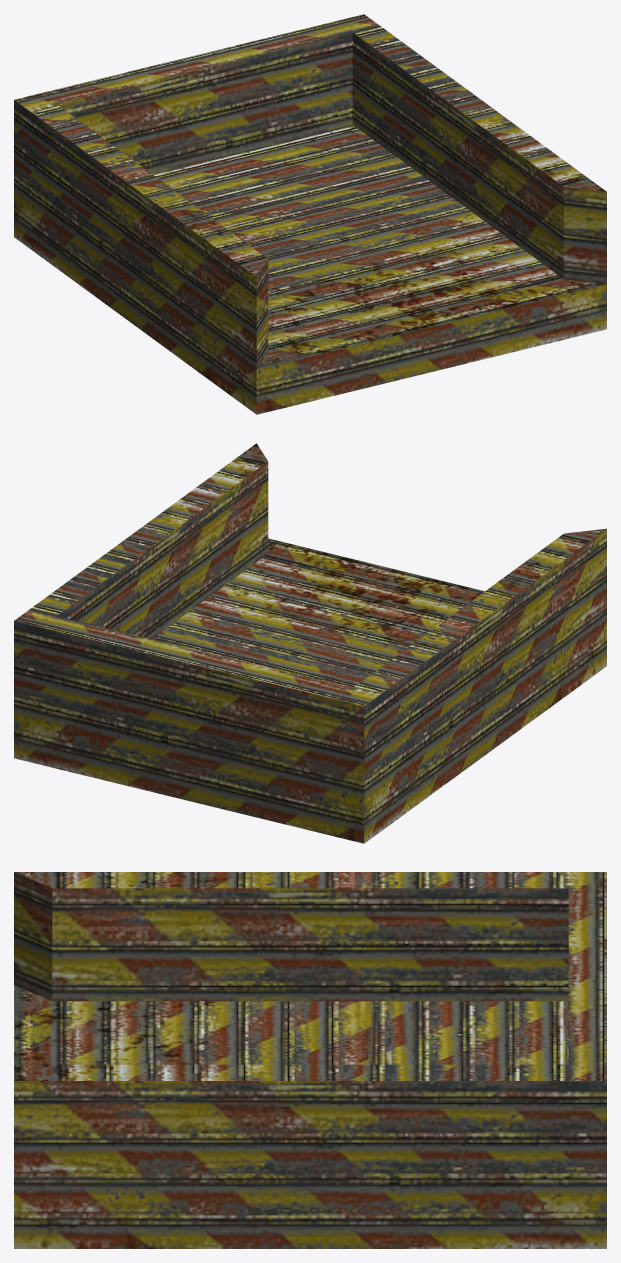
The model's file is elevator1.obj.
3 renders of one model, top to bottom at view 1: azimuth 30°, elevation 25°; view 2: azimuth 150°, elevation 25°; view 3: azimuth 270°, elevation 25°, orthographic. The views are drawn at different scales.
Visible parts, largest first — view 1: elevator1; view 2: elevator1; view 3: elevator1.
Part boxes in pixels (left/top/right/bottom): elevator1: left=14, top=14, right=606, bottom=414; elevator1: left=14, top=443, right=606, bottom=843; elevator1: left=14, top=872, right=606, bottom=1248.
Size of the model in its own units: 1.19 by 0.447 by 1.43.
1 material, 1 textured.
